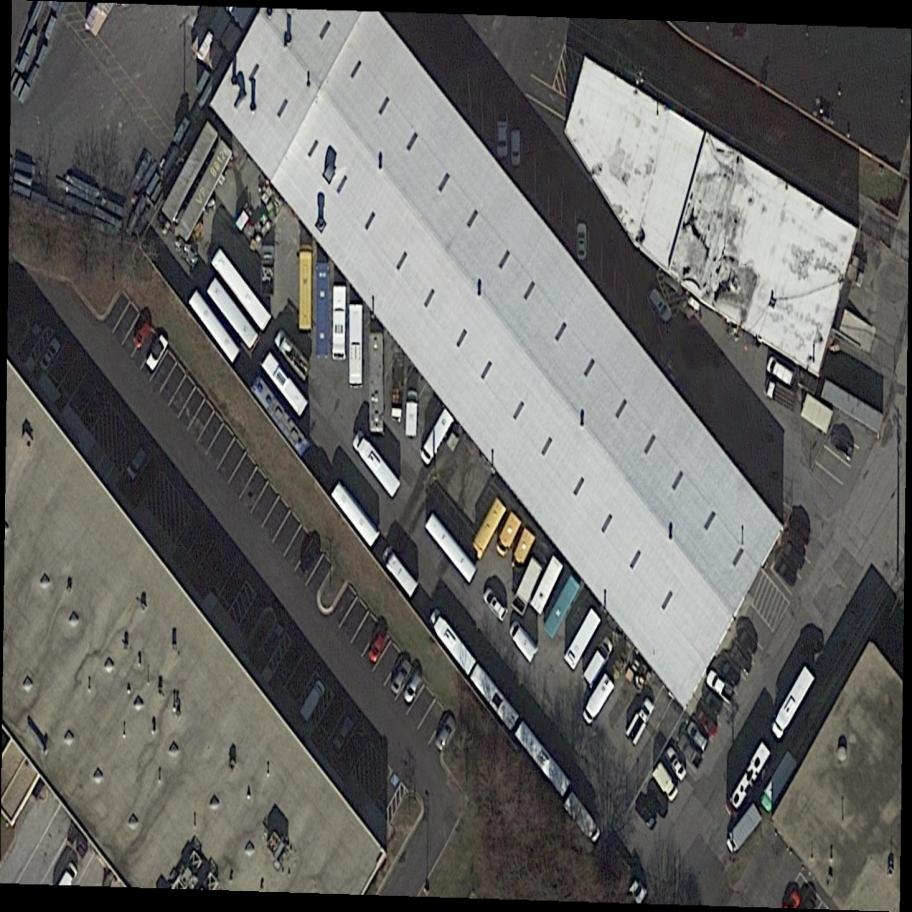large-vehicle: (205, 247, 278, 335), (512, 721, 577, 798), (185, 285, 246, 366), (202, 278, 263, 351), (423, 606, 484, 679), (765, 664, 820, 744), (467, 663, 525, 736), (421, 512, 482, 581), (347, 428, 406, 498), (327, 480, 385, 545), (256, 351, 312, 415), (539, 572, 585, 641), (464, 495, 512, 561), (376, 540, 426, 601), (560, 607, 606, 673), (556, 790, 607, 849), (756, 751, 803, 815), (269, 326, 319, 386), (719, 801, 769, 857), (527, 554, 569, 618), (507, 554, 547, 617), (416, 408, 456, 469), (579, 674, 619, 726), (580, 635, 618, 689), (491, 508, 528, 560), (508, 525, 540, 575), (508, 621, 543, 662), (316, 263, 331, 358), (349, 304, 365, 389), (298, 244, 313, 334), (332, 284, 349, 359), (389, 356, 405, 422), (405, 389, 422, 439)
small-vehicle: (621, 694, 661, 748), (644, 759, 685, 807), (476, 582, 516, 627), (758, 375, 804, 414), (699, 666, 740, 708), (759, 353, 803, 390), (671, 730, 707, 775), (295, 677, 329, 723), (643, 284, 678, 327), (659, 742, 693, 785), (774, 537, 811, 575), (294, 539, 326, 581), (141, 332, 173, 373), (729, 623, 764, 660), (361, 626, 392, 666), (430, 713, 460, 754), (712, 656, 746, 692), (722, 642, 756, 678), (689, 704, 723, 740), (768, 555, 802, 590), (824, 431, 860, 464), (681, 719, 714, 755), (784, 513, 817, 548), (387, 656, 415, 697), (396, 671, 427, 708), (330, 714, 358, 754), (641, 782, 671, 819), (630, 797, 661, 832), (38, 337, 66, 375), (697, 688, 730, 720), (125, 448, 151, 481), (131, 318, 154, 352), (573, 220, 590, 263), (509, 130, 522, 169), (497, 120, 509, 158)
